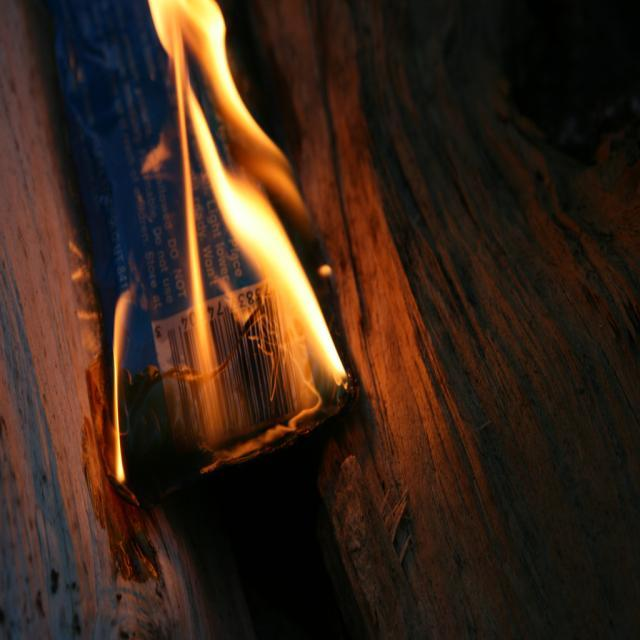Fire: (152, 0, 260, 206), (242, 211, 344, 376)
